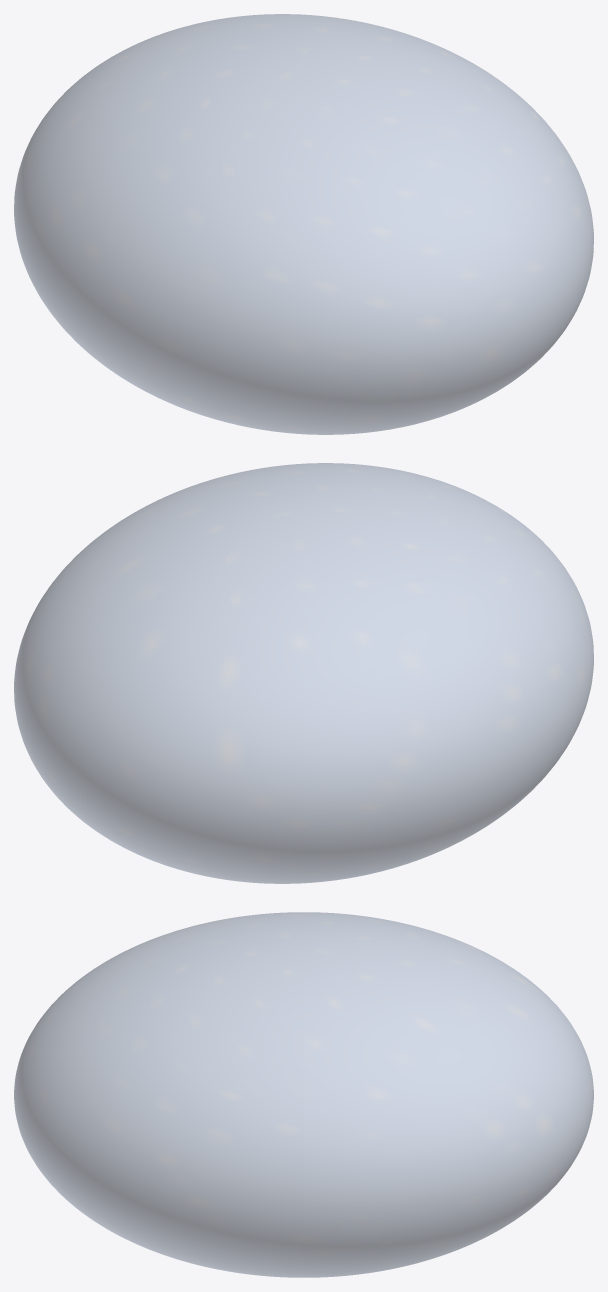
Rendered from moonstone.glb.
3 views of the same model, one above another, from view 1: azimuth 30°, elevation 25°; view 2: azimuth 150°, elevation 25°; view 3: azimuth 270°, elevation 25° (orthographic). The views are drawn at different scales.
Parts seen in each view (by area): view 1: moonstone; view 2: moonstone; view 3: moonstone.
Boxes of the visible parts, x1,y1,x2,y2 form: moonstone: [14, 14, 593, 434]; moonstone: [14, 463, 593, 883]; moonstone: [14, 912, 593, 1277].
Bounding box in the file's own units: 2.17 × 1.41 × 2.5.
